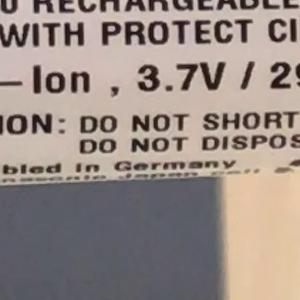3.7V: (127, 52, 235, 102)
